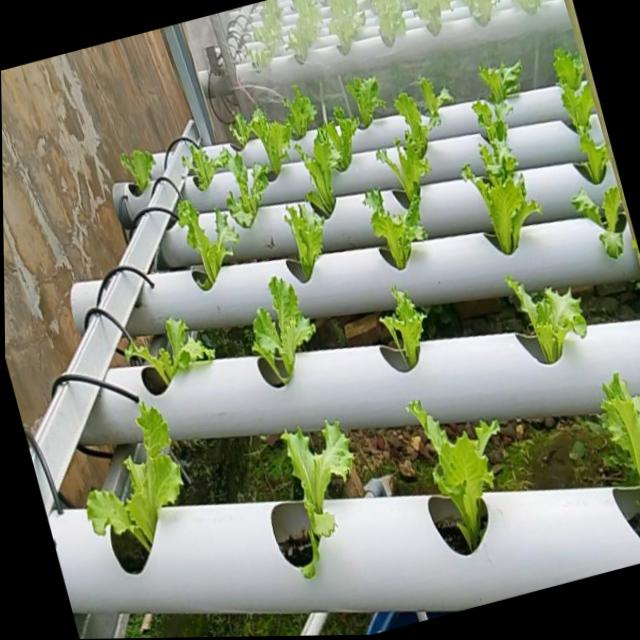Baby: (89, 411, 185, 559), (408, 407, 499, 557), (283, 430, 354, 586), (505, 279, 585, 367), (252, 279, 315, 387), (121, 318, 214, 387), (375, 112, 438, 209), (293, 123, 350, 220), (177, 202, 238, 292), (341, 69, 405, 154), (470, 176, 535, 256), (229, 107, 290, 177), (601, 380, 640, 489), (570, 187, 625, 260), (477, 114, 524, 199), (219, 152, 269, 231), (365, 192, 414, 272), (381, 289, 425, 371), (553, 53, 594, 131), (283, 206, 324, 283), (410, 75, 455, 131), (180, 141, 228, 192), (280, 85, 316, 140), (478, 60, 521, 103), (118, 148, 155, 190)
